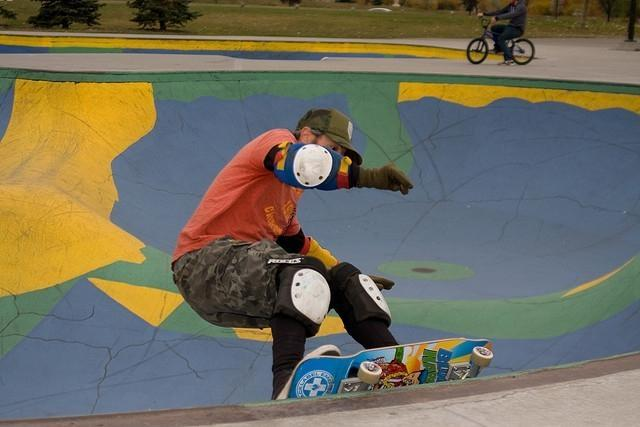bicycle: (466, 15, 538, 66)
